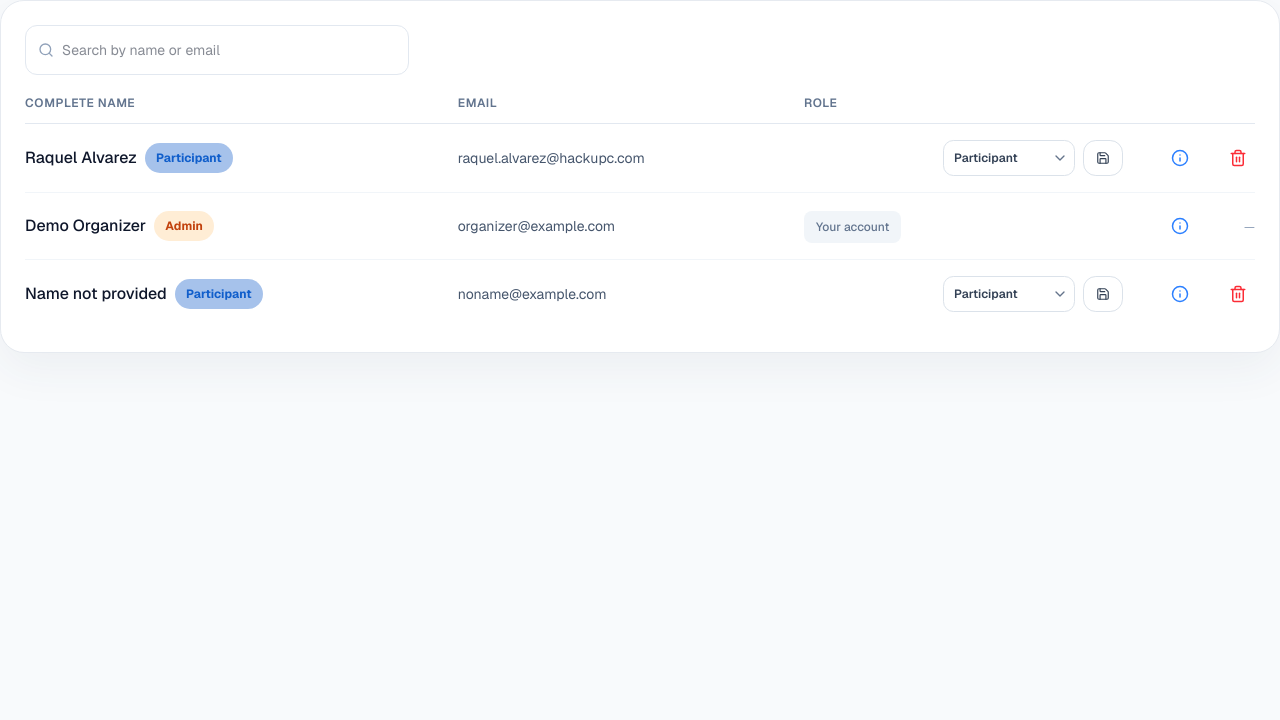
Scenario: UsersTable › falls back to 'Not provided' for missing profile fields in the dialog
Click the button named "View details for Demo Organizer" at (1180, 226), box [1163,209,1197,243]
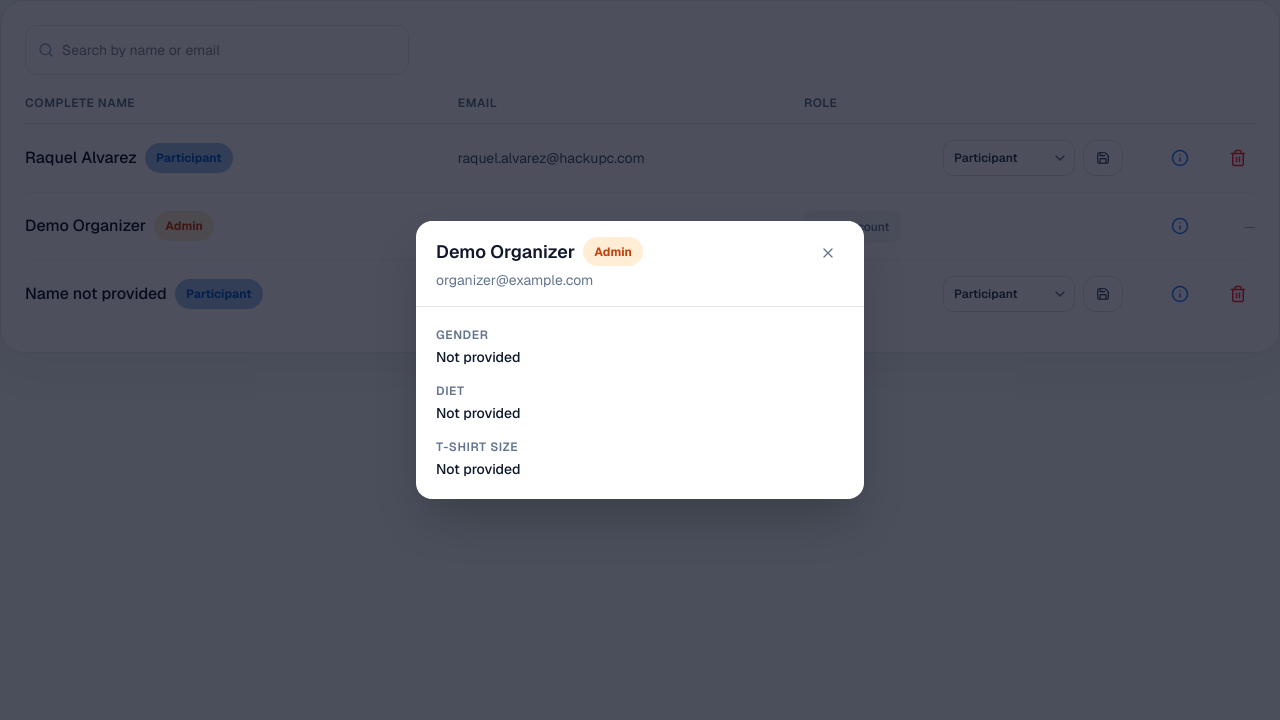
Now the text "Not provided" is shown 3 times, box [436,348,520,366]; [436,404,520,422]; [436,460,520,478]
